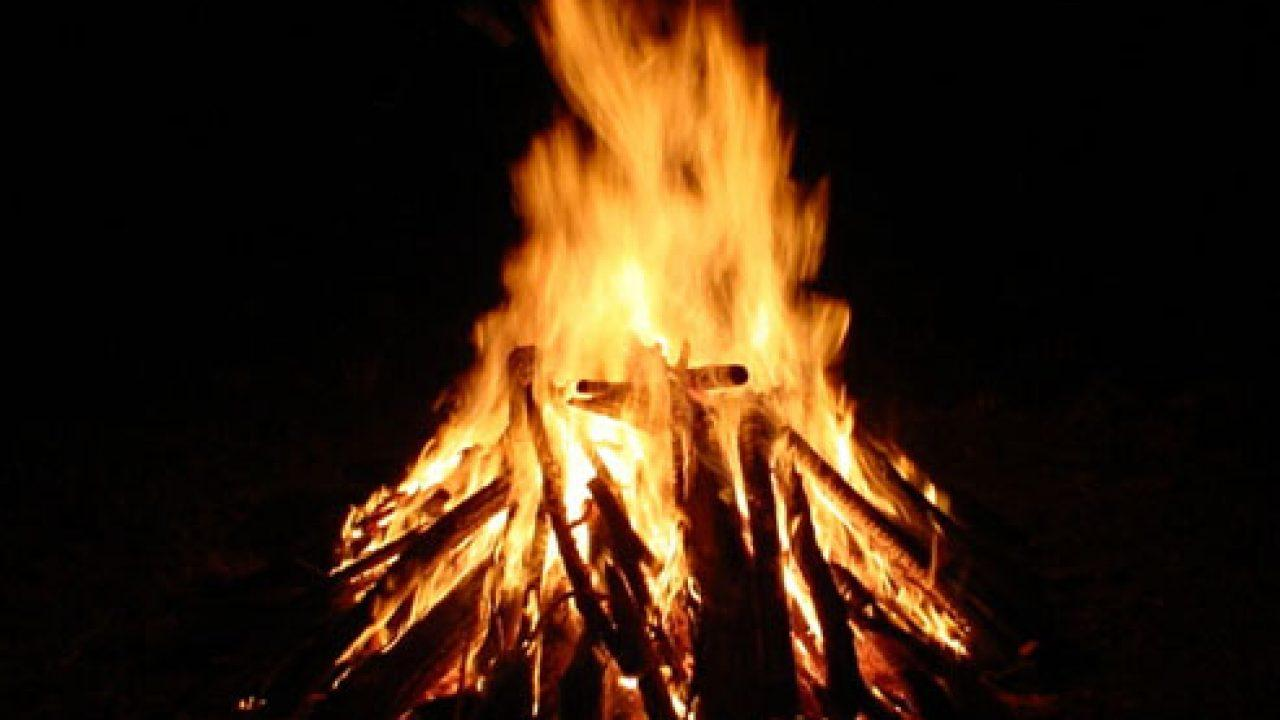Fire: (353, 32, 967, 686)
